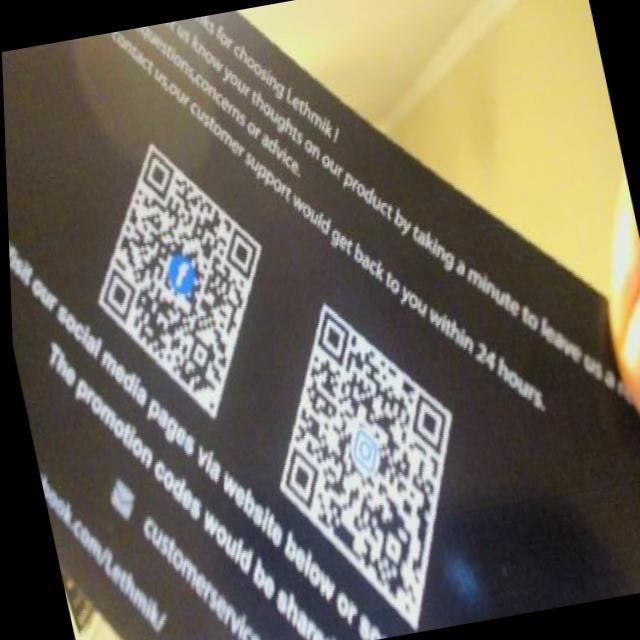QR_CODE: (234, 272, 502, 640), (49, 101, 300, 449)
